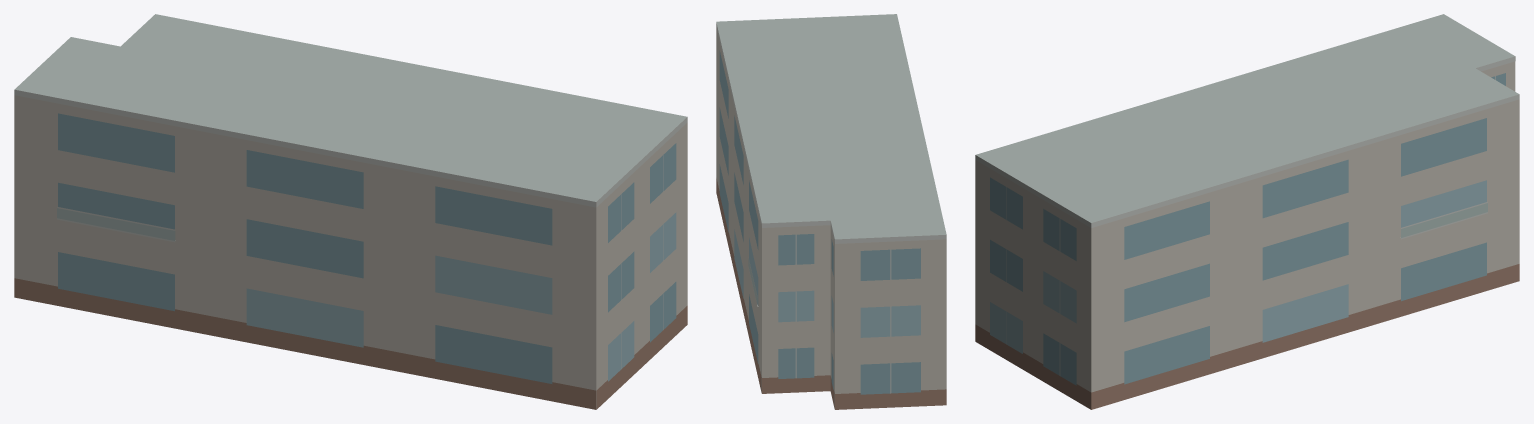
Rendered from survey-upis-32823542.glb.
The picture shows the model from 3 angles, left to right: view 1: azimuth 30°, elevation 25°; view 2: azimuth 150°, elevation 25°; view 3: azimuth 270°, elevation 25°; orthographic projection. The views are drawn at different scales.
Visible parts, largest first — view 1: survey-upis-32823542.tmp; view 2: survey-upis-32823542.tmp; view 3: survey-upis-32823542.tmp.
Part boxes in pixels (x1,y1,x2,y2): survey-upis-32823542.tmp: [14, 14, 687, 409]; survey-upis-32823542.tmp: [716, 14, 946, 409]; survey-upis-32823542.tmp: [975, 14, 1519, 409].
Bounding box in the file's own units: 21.99 × 9.15 × 24.18.
